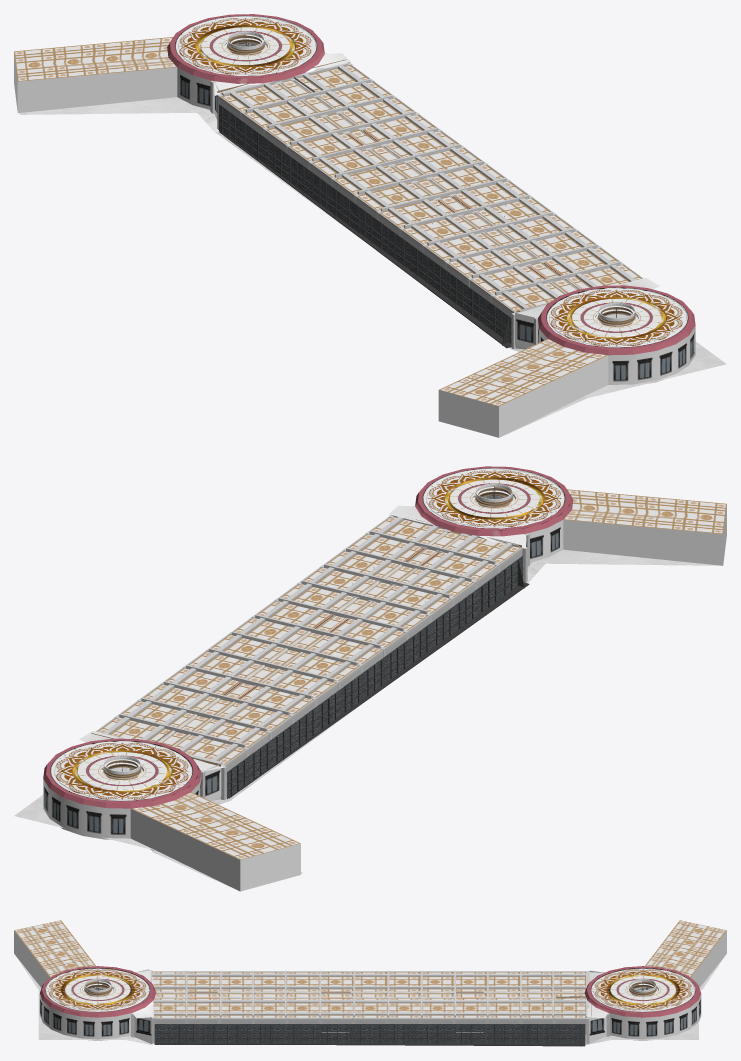
The model's file is Safa Marwa.fbx.
3 views of the same model, one above another, from view 1: azimuth 30°, elevation 25°; view 2: azimuth 150°, elevation 25°; view 3: azimuth 270°, elevation 25° (orthographic). The views are drawn at different scales.
Visible parts, largest first — view 1: Safa_Marwa; view 2: Safa_Marwa; view 3: Safa_Marwa.
Boxes of the visible parts, x1=… form: Safa_Marwa: x1=14, y1=14, x2=726, y2=437; Safa_Marwa: x1=14, y1=466, x2=726, y2=891; Safa_Marwa: x1=14, y1=920, x2=726, y2=1046.
Bounding box in the file's own units: 4663 × 881 × 14117.
27 materials, 16 textured.
